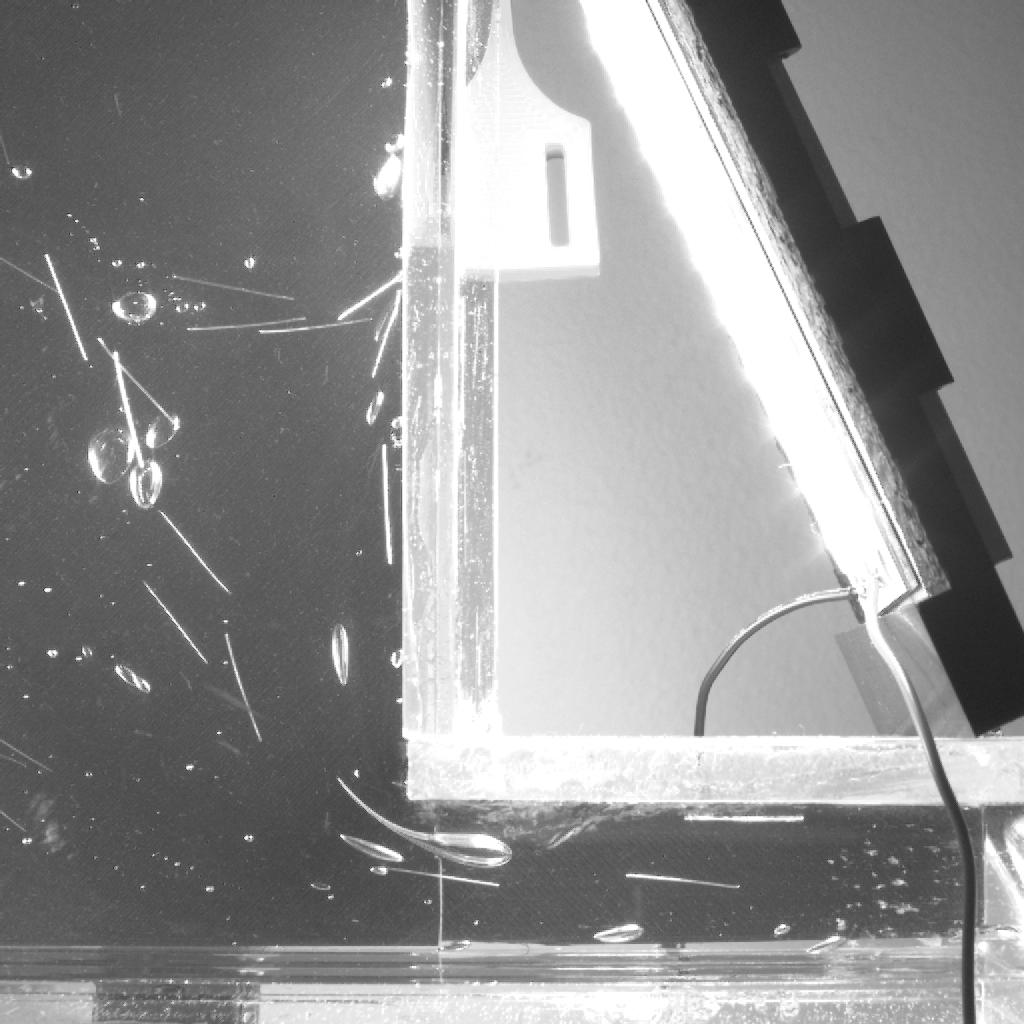Fiber: (87, 332, 184, 430), (156, 508, 235, 599), (140, 581, 209, 666), (221, 630, 265, 748), (44, 252, 89, 362), (113, 347, 149, 474), (335, 268, 405, 321), (170, 273, 294, 301), (378, 864, 500, 890), (368, 297, 401, 379), (1, 255, 64, 296), (188, 314, 306, 334), (255, 316, 374, 335), (625, 872, 742, 890), (0, 738, 56, 774), (381, 444, 396, 565), (686, 814, 805, 824), (1, 809, 29, 835), (1, 751, 31, 771)
